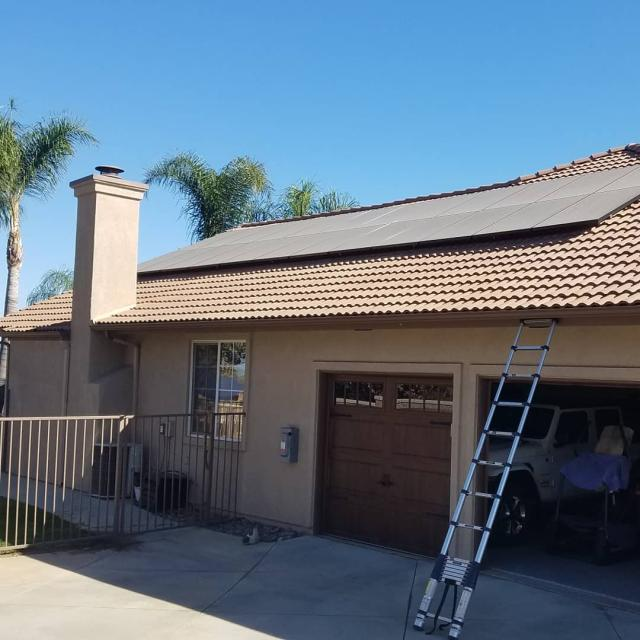dust-solar-panel: (131, 164, 640, 273)
